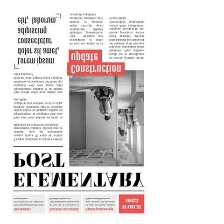news_paper: (8, 10, 146, 217)
